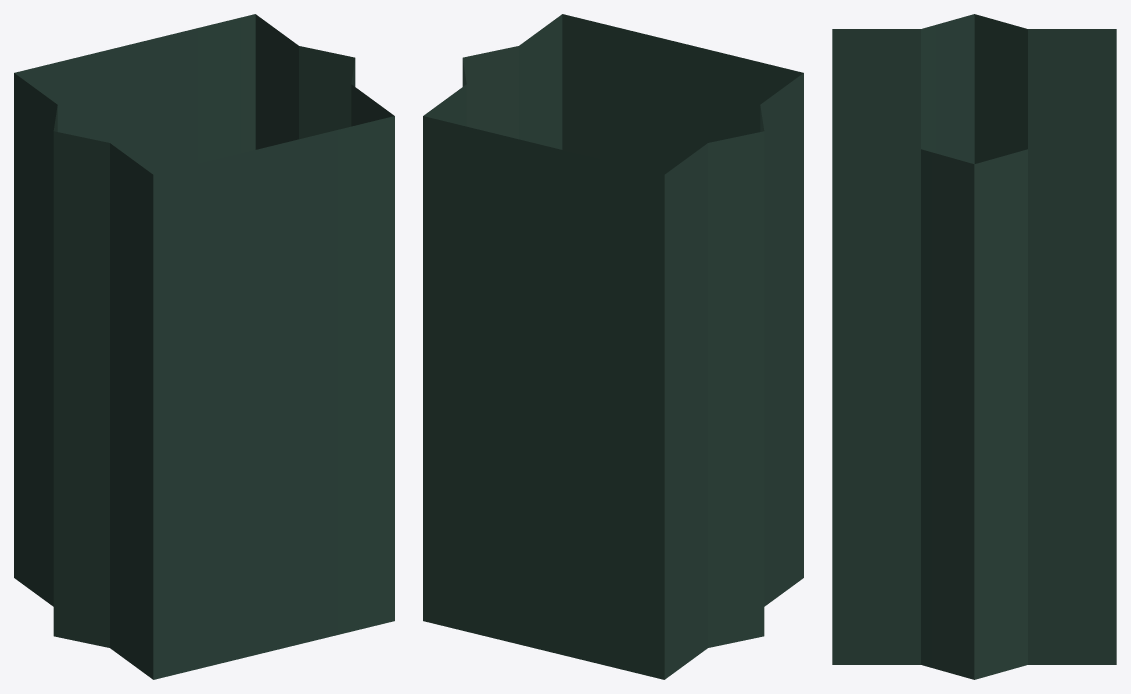
The model's file is SM_PillarMid_01.fbx.
3 views of the same model, side by side, from view 1: azimuth 30°, elevation 25°; view 2: azimuth 150°, elevation 25°; view 3: azimuth 270°, elevation 25° (orthographic). The views are drawn at different scales.
Parts seen in each view (by area): view 1: SM_PillarMid_01; view 2: SM_PillarMid_01; view 3: SM_PillarMid_01.
Part boxes in pixels (<box>): SM_PillarMid_01: <box>14,14,394,679</box>; SM_PillarMid_01: <box>423,14,803,679</box>; SM_PillarMid_01: <box>832,14,1116,679</box>.
Size of the model in its own units: 250 by 400 by 200.
Materials: 1 (1 with a texture image).
